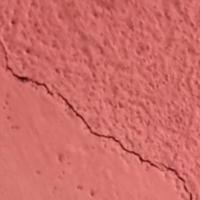crack: (0, 38, 199, 199)
